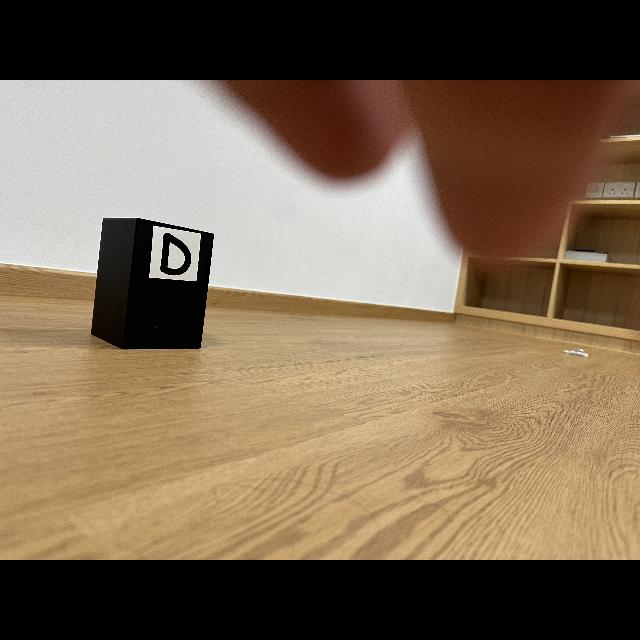D: (160, 232, 191, 275)
